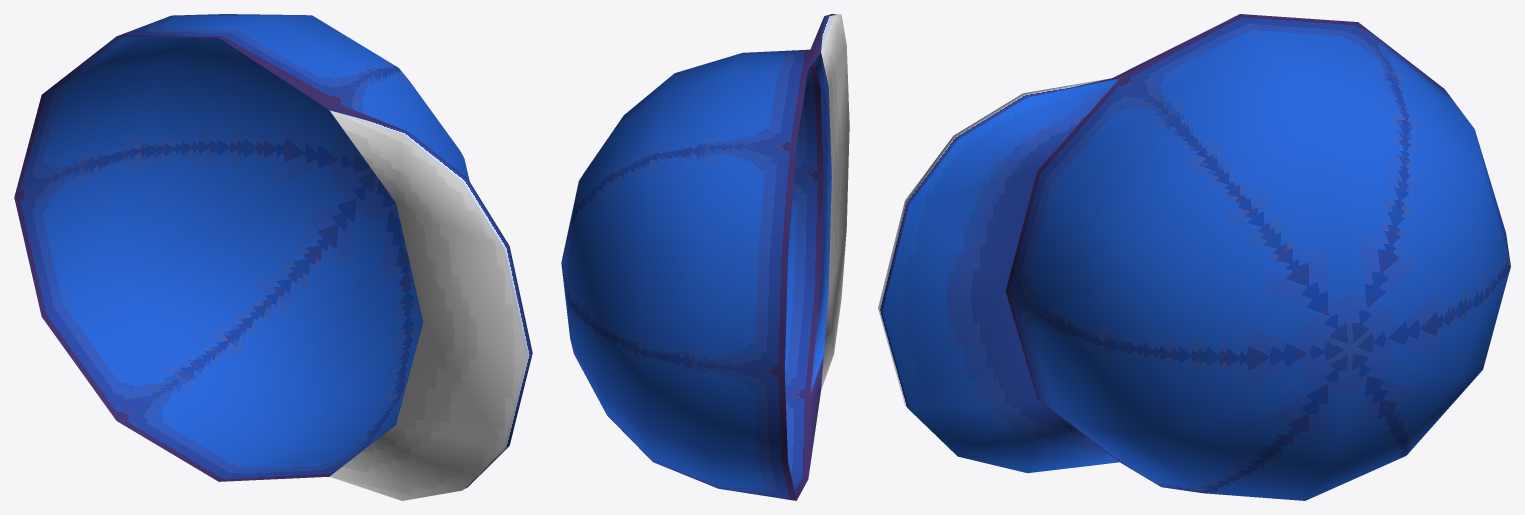
File: cap_cap_group_blue.dae
3 views of the same model, side by side, from view 1: azimuth 30°, elevation 25°; view 2: azimuth 150°, elevation 25°; view 3: azimuth 270°, elevation 25° (orthographic). The views are drawn at different scales.
Parts seen in each view (by area): view 1: cap_cap_group_blue; view 2: cap_cap_group_blue; view 3: cap_cap_group_blue.
Part boxes in pixels (left/top/right/bottom): cap_cap_group_blue: left=14, top=14, right=532, bottom=500; cap_cap_group_blue: left=561, top=14, right=849, bottom=500; cap_cap_group_blue: left=878, top=14, right=1510, bottom=500.
Bounding box in the file's own units: 16.08 × 21.14 × 26.58.
1 material, 1 textured.
